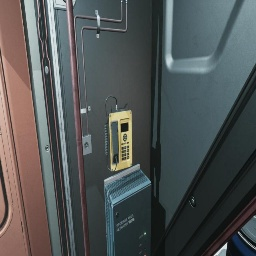EmergencyPhone ,: (104, 96, 132, 172)
